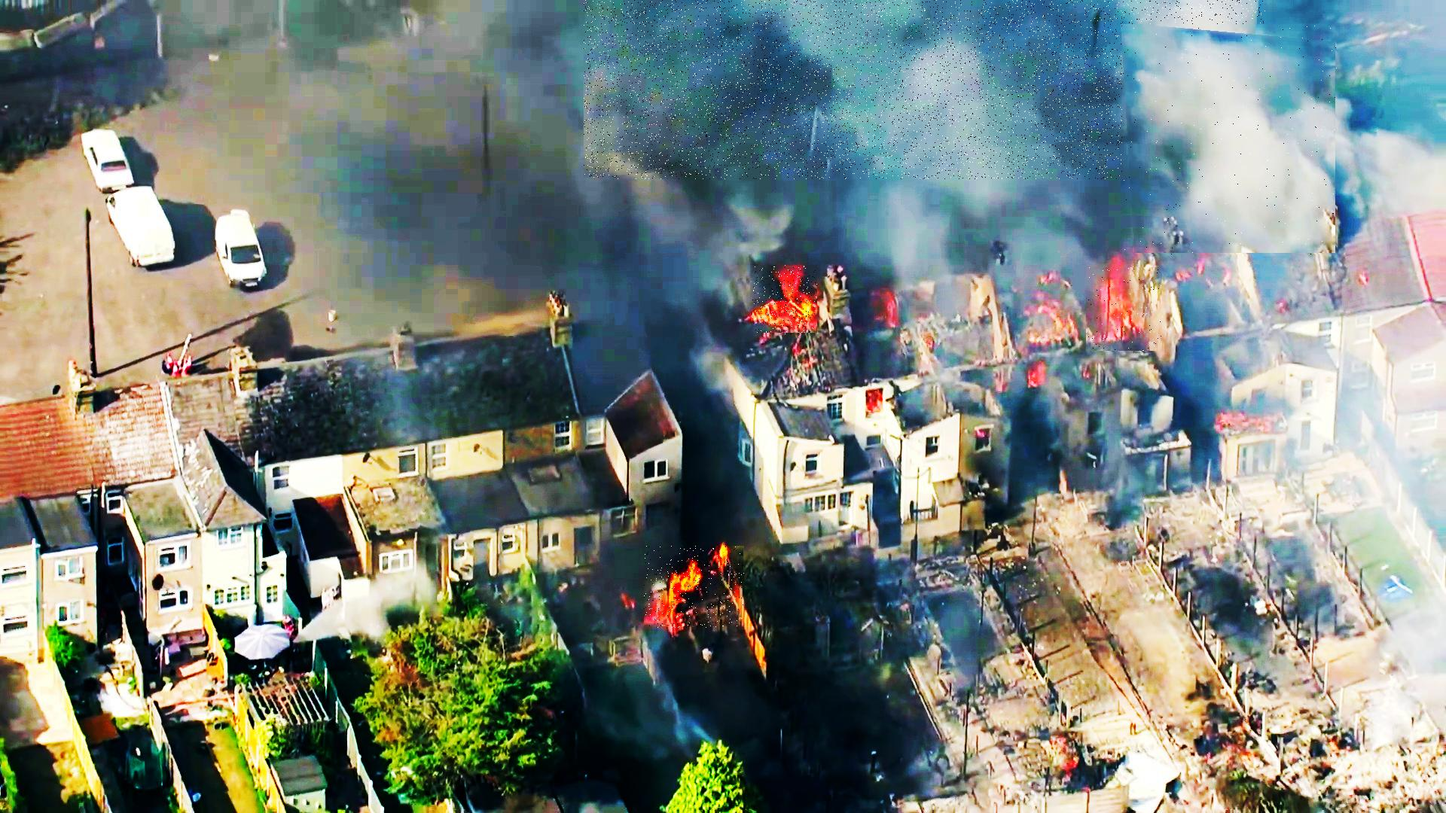fire: (644, 546, 744, 629), (1087, 268, 1164, 353), (753, 266, 817, 335)
smoke: (584, 0, 1266, 179), (1123, 25, 1337, 255)
